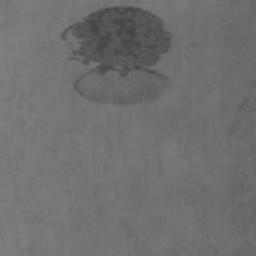Oil spot: (60, 6, 174, 108)
